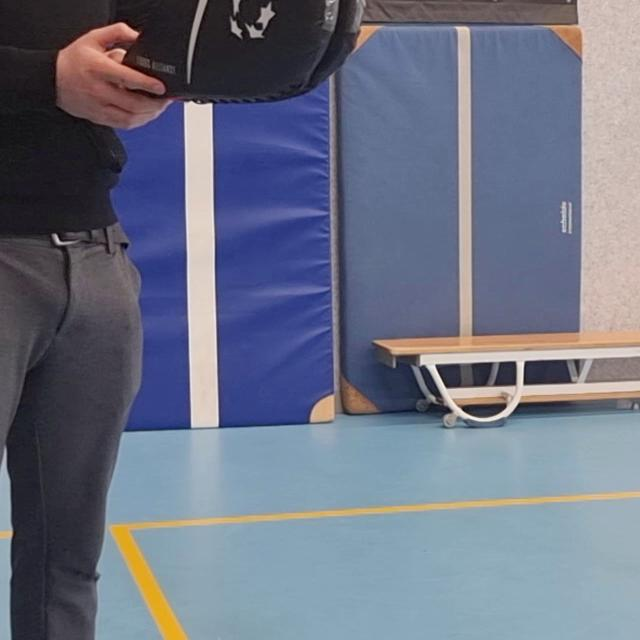paddle: (107, 0, 368, 101)
